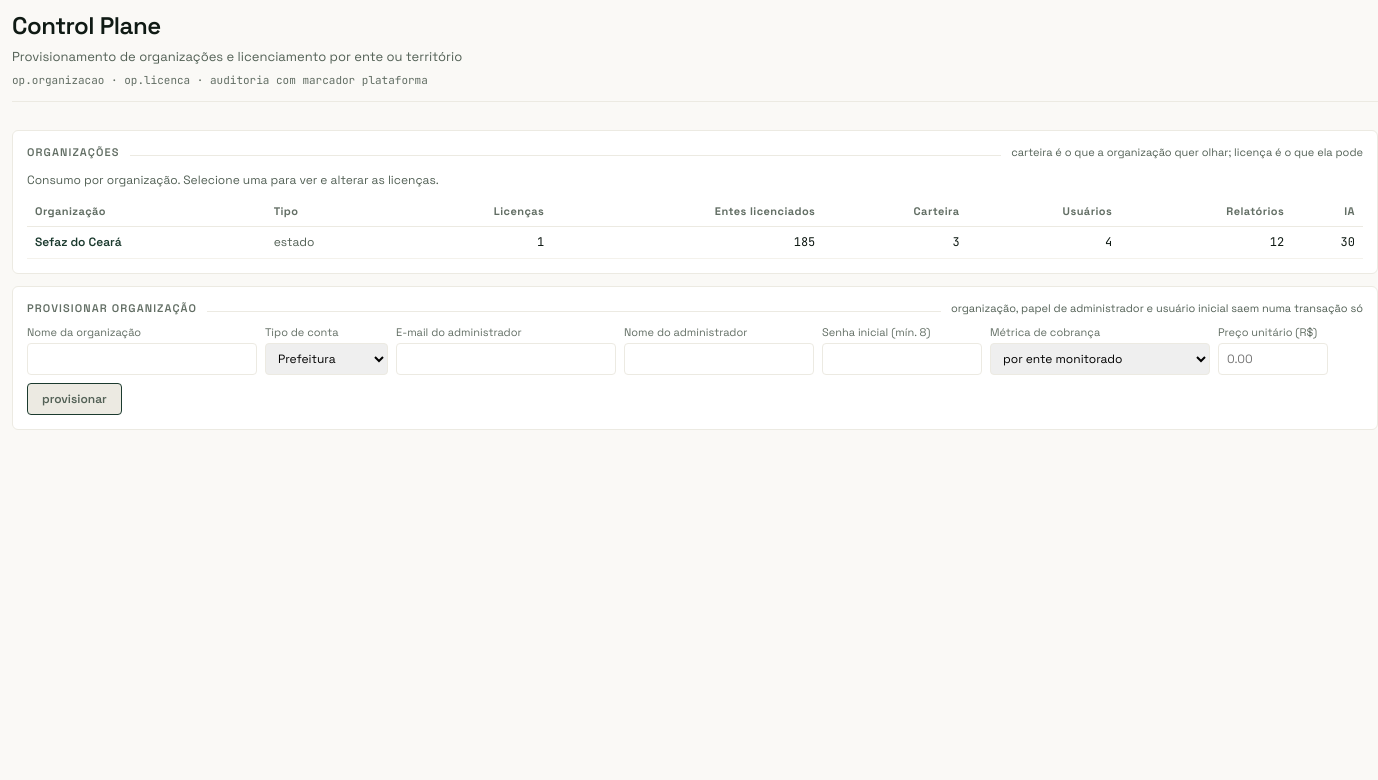
Sprint 19 — control plane › ao abrir uma organização sem licença, diz que a carteira não basta
Click the button "Sefaz do Ceará".
click(78, 243)  # box [35,234,122,251]
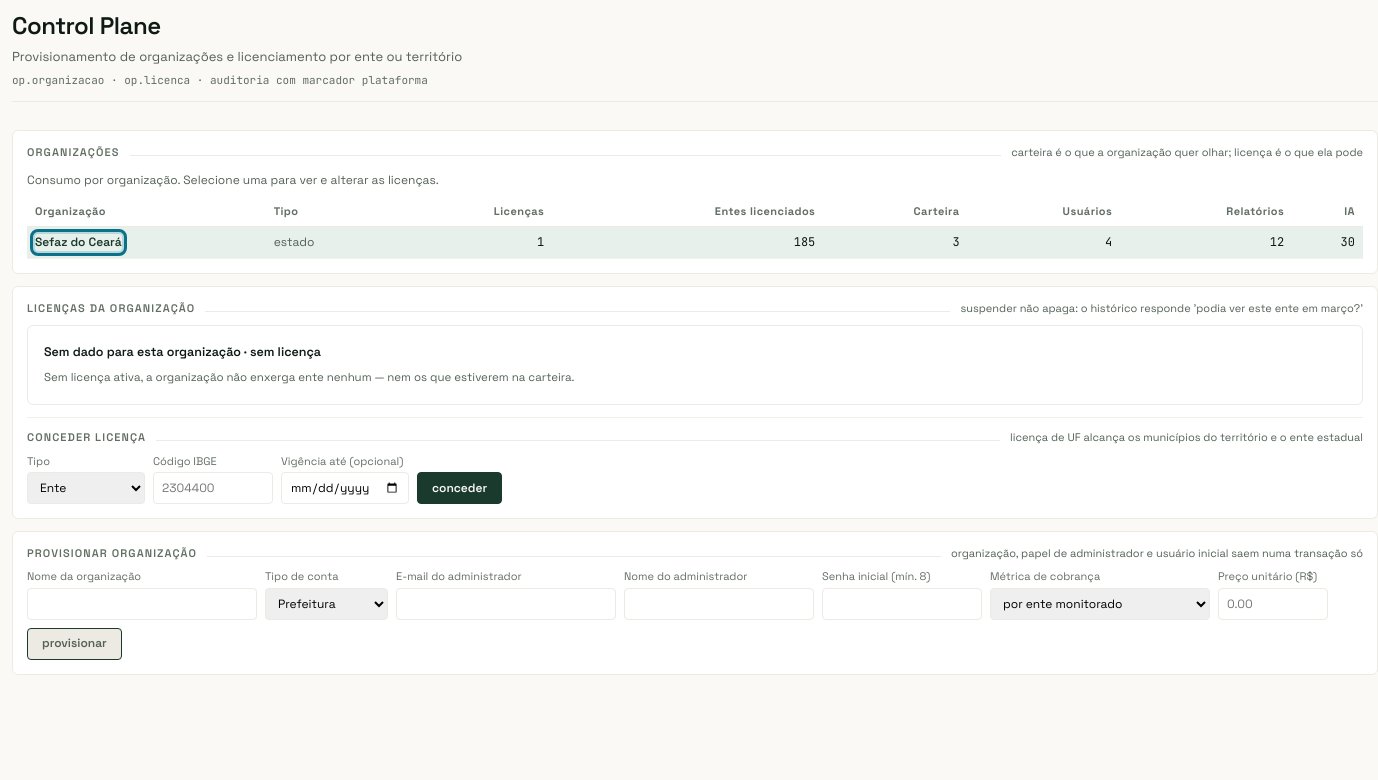
Now the text "não enxerga ente nenhum — nem os que estiverem na carteira" is shown, box [44,370,574,384]
